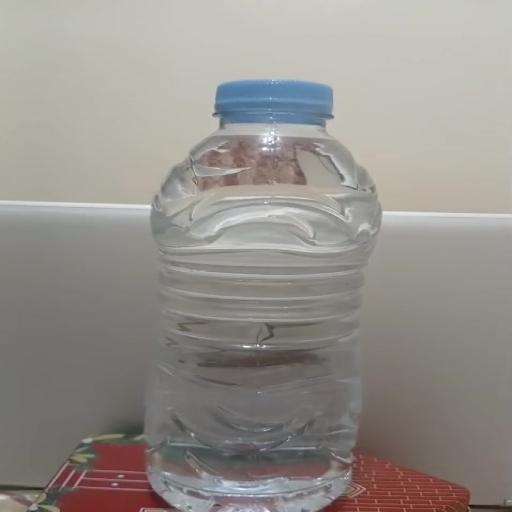bouteille non conformite: (112, 71, 406, 512)
